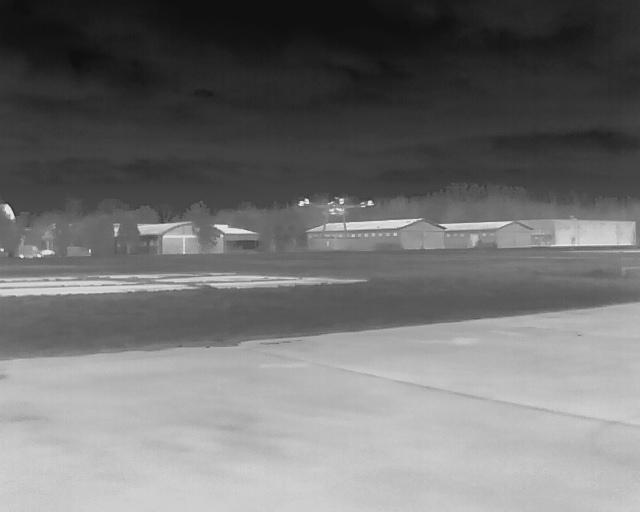drone: (284, 181, 381, 240)
